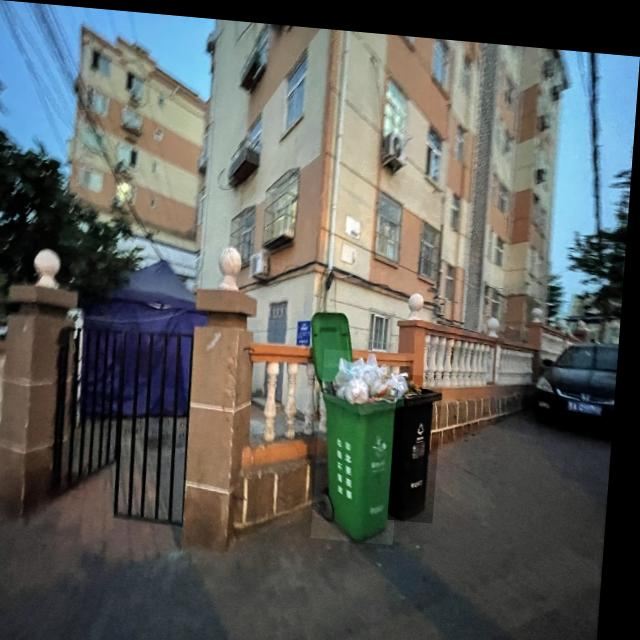overflow: (318, 342, 411, 537), (395, 366, 448, 515)
